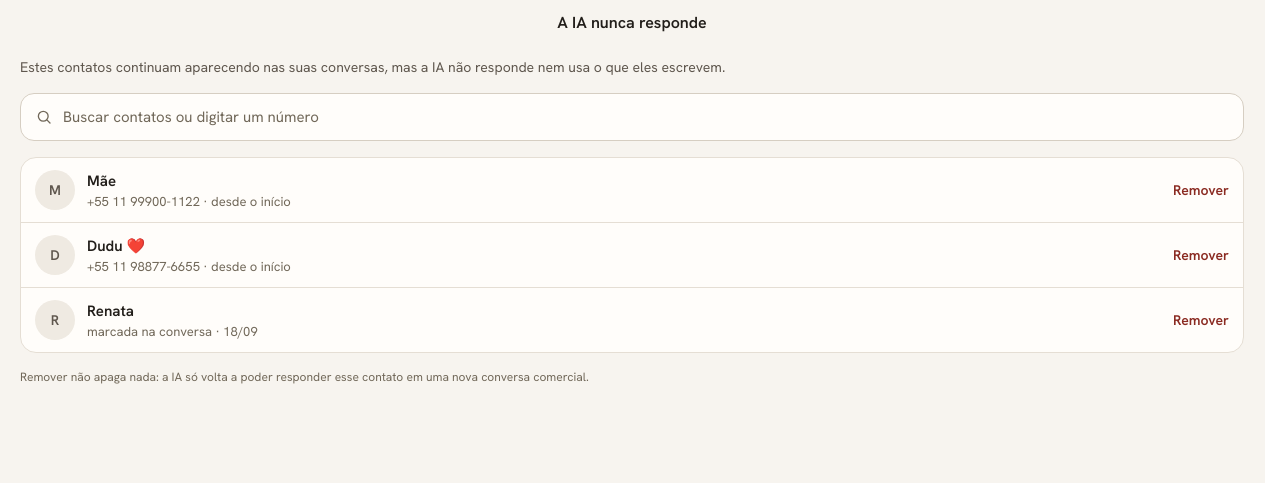
it: Goal140 a busca › lê depois de 250 ms com ignored false e search, uma vez
In the search field labelled "Buscar contatos ou digitar um número": (646, 117) [63,94,1229,140], type "mar"
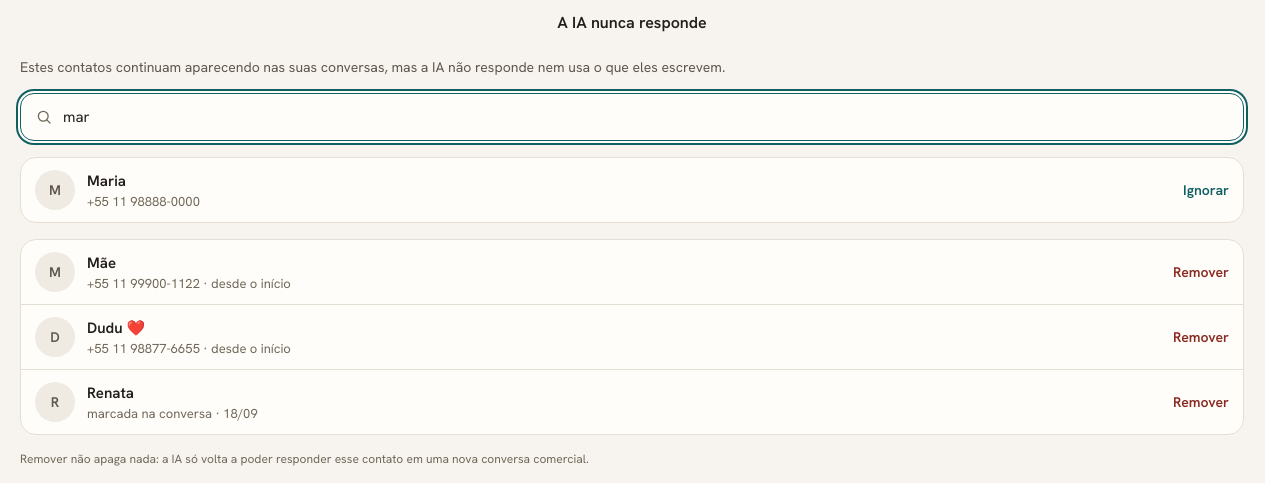
Expected: the text "Maria" is shown, [87,171,126,191]
